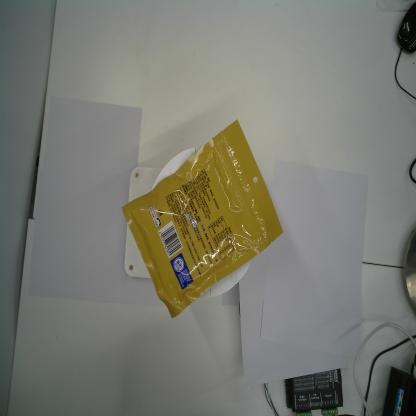Dried Fruit: (121, 118, 284, 318)
